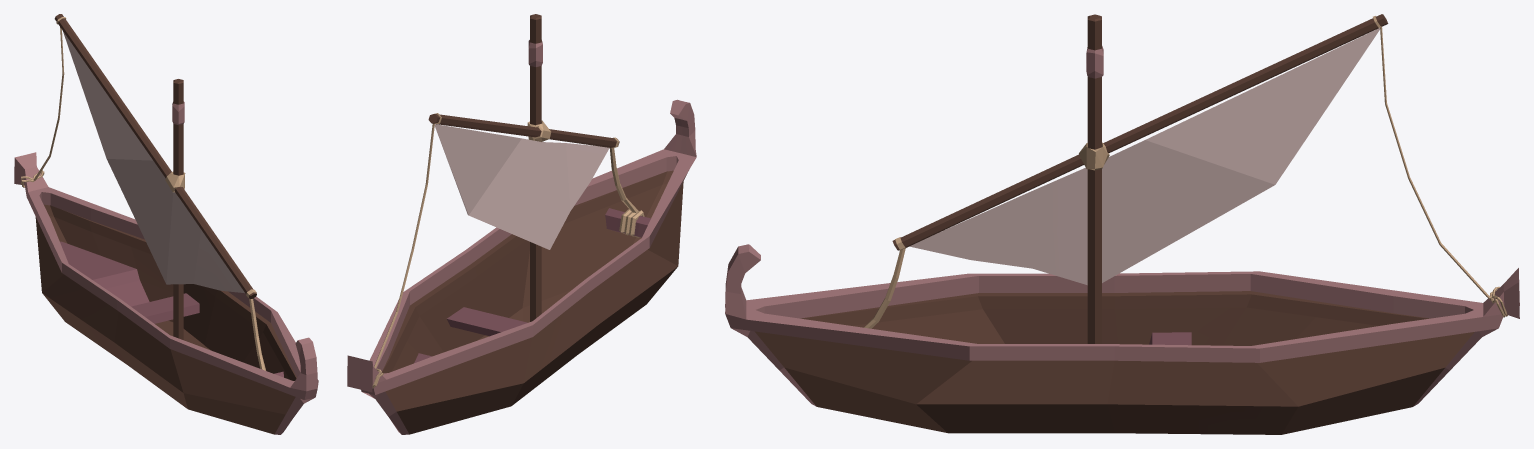
Rendered from BoatModel.fbx.
3 views of the same model, side by side, from view 1: azimuth 30°, elevation 25°; view 2: azimuth 150°, elevation 25°; view 3: azimuth 270°, elevation 25° (orthographic). The views are drawn at different scales.
Parts seen in each view (by area): view 1: Small Boat; view 2: Small Boat; view 3: Small Boat.
Boxes of the visible parts, x1,y1,x2,y2 form: Small Boat: (14,14,318,434); Small Boat: (347,14,696,434); Small Boat: (725,14,1519,434).
Size of the model in its own units: 99.53 by 223 by 392.
